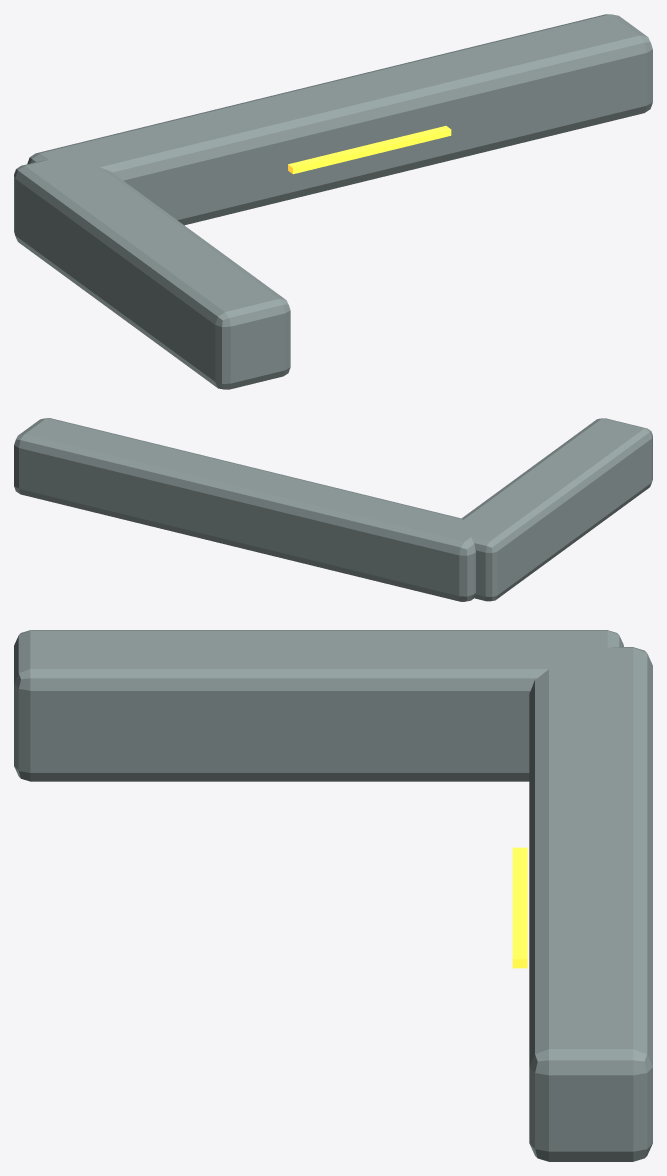
Rendered from forklift_fork.glb.
The picture shows the model from 3 angles, top to bottom: view 1: azimuth 30°, elevation 25°; view 2: azimuth 150°, elevation 25°; view 3: azimuth 270°, elevation 25°; orthographic projection. The views are drawn at different scales.
Visible parts, largest first — view 1: forklift_fork_left, forklift_fork_heel_left, forklift_fork_warning_left; view 2: forklift_fork_left, forklift_fork_heel_left; view 3: forklift_fork_heel_left, forklift_fork_left, forklift_fork_warning_left.
Boxes of the visible parts, x1,y1,x2,y2 form: forklift_fork_left: (27, 14, 652, 225); forklift_fork_heel_left: (14, 152, 290, 389); forklift_fork_warning_left: (288, 126, 451, 174); forklift_fork_left: (14, 418, 484, 601); forklift_fork_heel_left: (448, 418, 652, 601); forklift_fork_heel_left: (14, 630, 623, 781); forklift_fork_left: (529, 647, 652, 1161); forklift_fork_warning_left: (512, 847, 527, 968).
Size of the model in its own units: 0.6225 by 0.075 by 0.3875.
